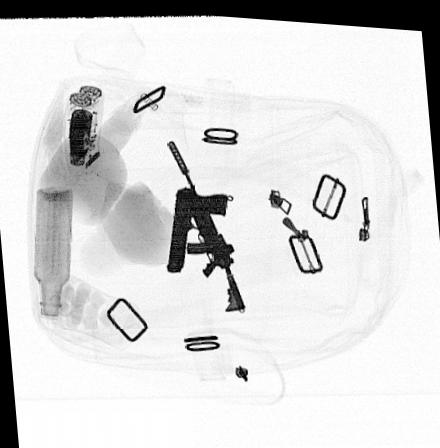Gun: (166, 138, 245, 310), (165, 184, 233, 271)
